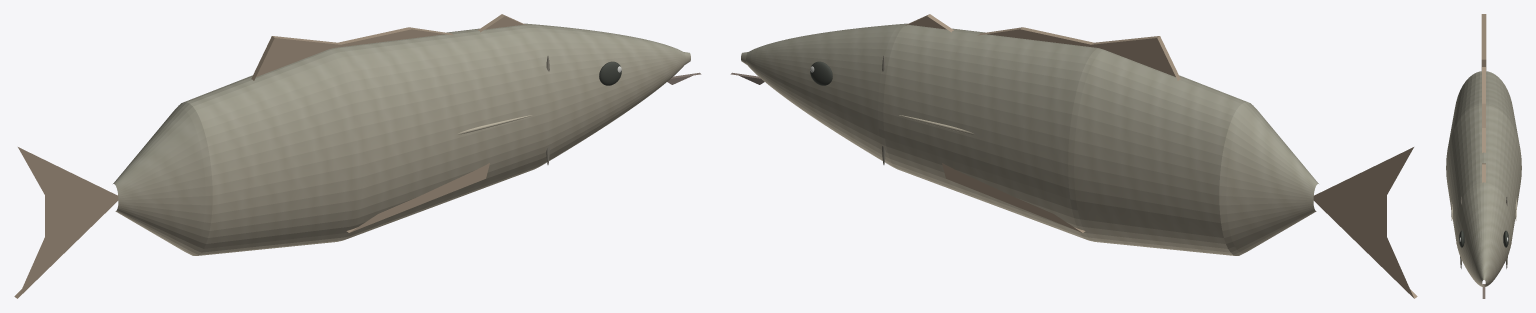
Rendered from red-drum.glb.
3 views of the same model, side by side, from view 1: azimuth 30°, elevation 25°; view 2: azimuth 150°, elevation 25°; view 3: azimuth 270°, elevation 25° (orthographic). The views are drawn at different scales.
Parts seen in each view (by area): view 1: body, tail, spiny-dorsal, pectoral1; view 2: body, tail, spiny-dorsal, pectoral-1; view 3: body, spiny-dorsal, tail, eye-1, eye1, soft-dorsal.
Boxes of the visible parts, <box> form: body: <box>113,23,690,255</box>; tail: <box>14,147,118,298</box>; spiny-dorsal: <box>251,27,454,80</box>; pectoral1: <box>346,163,489,232</box>; body: <box>741,23,1318,255</box>; tail: <box>1313,147,1417,298</box>; spiny-dorsal: <box>977,27,1180,80</box>; pectoral-1: <box>942,163,1085,232</box>; body: <box>1446,71,1521,286</box>; spiny-dorsal: <box>1482,67,1485,152</box>; tail: <box>1481,14,1486,70</box>; eye-1: <box>1503,230,1508,247</box>; eye1: <box>1459,230,1464,247</box>; soft-dorsal: <box>1482,163,1485,182</box>.
Bounding box in the file's own units: 3.31 × 1 × 0.4786.
